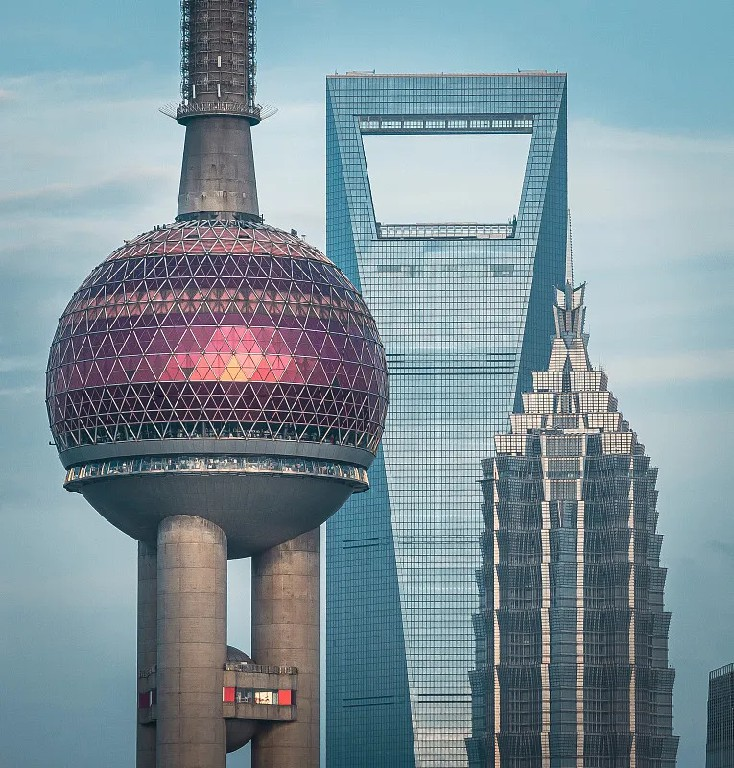Oriental: (46, 2, 389, 768)
